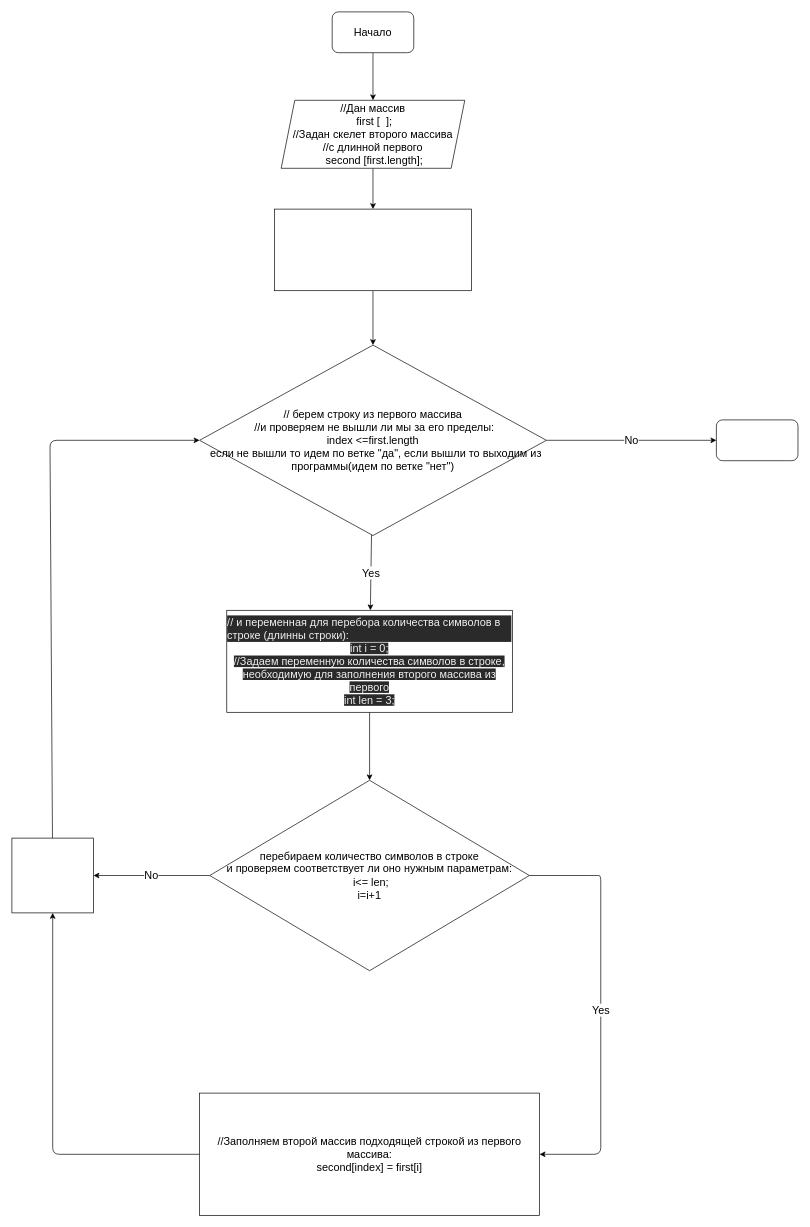
This 810x1227 diagram has some shape labels left out. Here are the shapes that lost their labels. From the top down, the centre of each, then its label:
At (373,249): "//Задаем переменную cчетчик количества строк: int index = 0;".
At (757,440): "Конец".
At (52,875): "переходим к следующей строке index=index+1".
